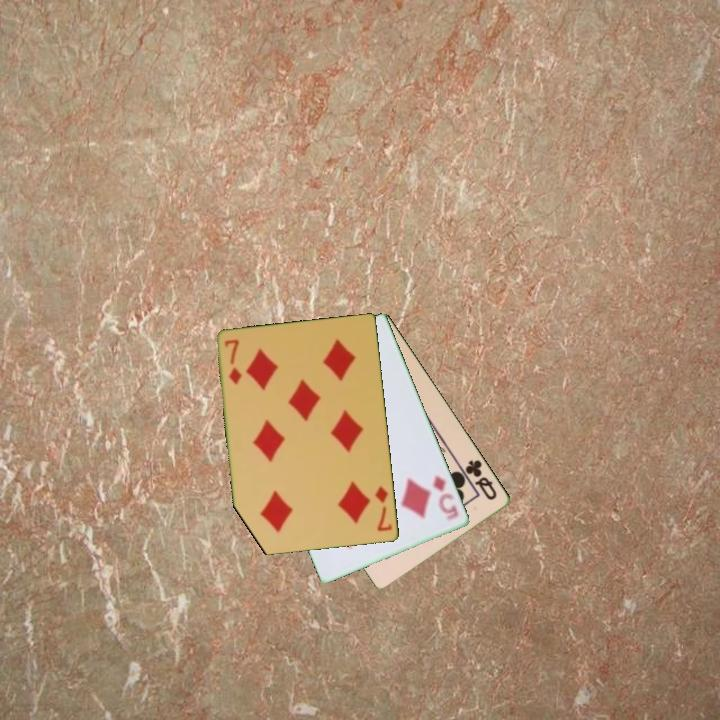5d: (430, 472, 462, 524)
7d: (221, 336, 245, 388), (372, 483, 395, 535)
Qc: (462, 456, 500, 503)
